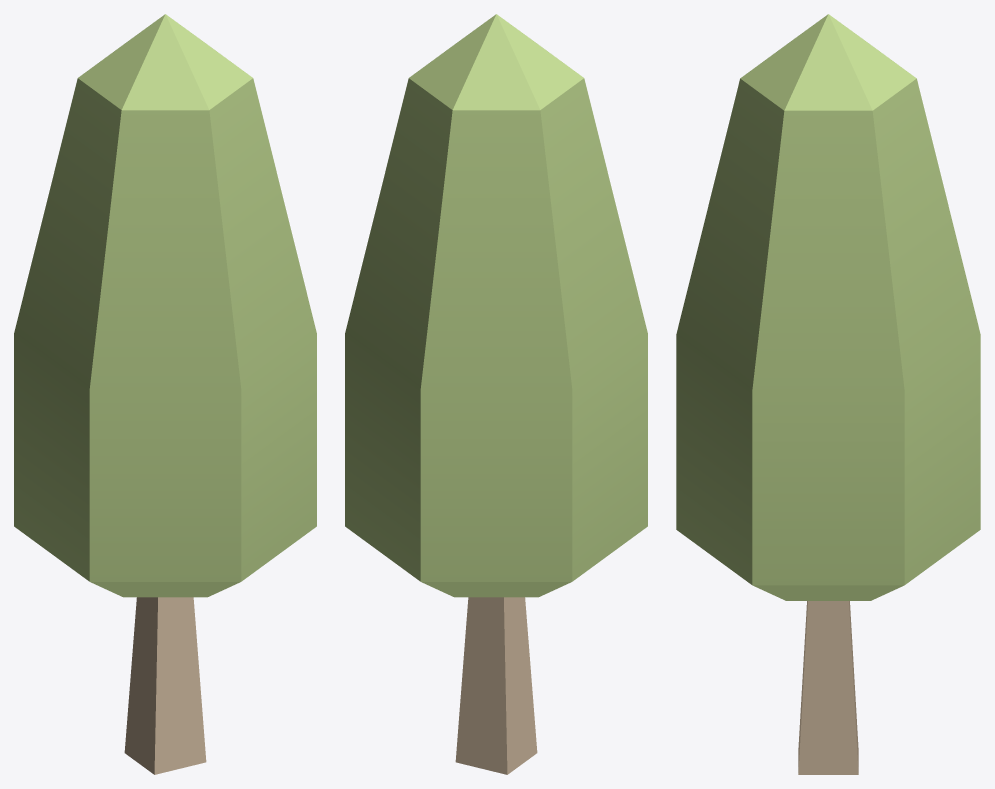
Rendered from roadTile_019.gltf.
3 views of the same model, side by side, from view 1: azimuth 30°, elevation 25°; view 2: azimuth 150°, elevation 25°; view 3: azimuth 270°, elevation 25° (orthographic).
Parts seen in each view (by area): view 1: roadTile_019; view 2: roadTile_019; view 3: roadTile_019.
Boxes of the visible parts, x1,y1,x2,y2 form: roadTile_019: [14, 14, 316, 774]; roadTile_019: [345, 14, 647, 774]; roadTile_019: [676, 14, 980, 774].
Bounding box in the file's own units: 0.8086 × 2.53 × 0.9337.
